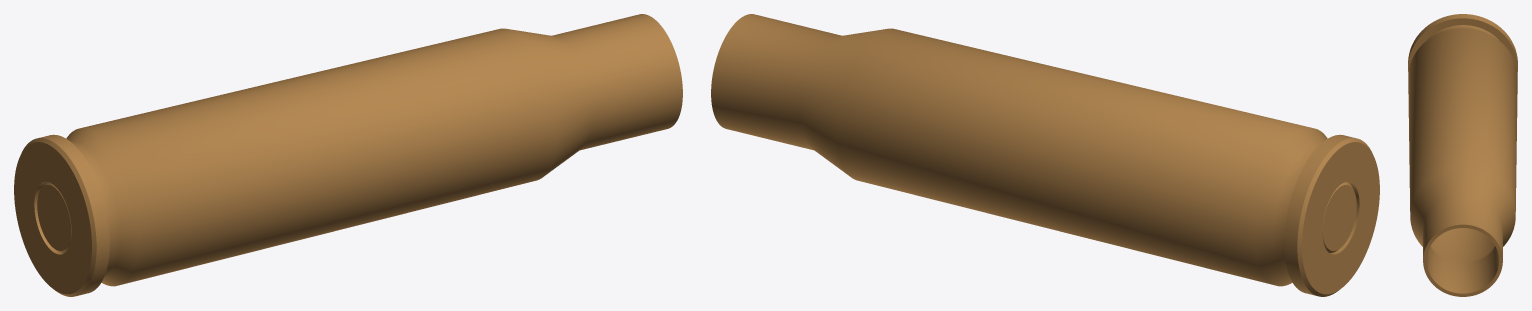
The model's file is case_308_h_winchester.glb.
3 renders of one model, left to right at view 1: azimuth 30°, elevation 25°; view 2: azimuth 150°, elevation 25°; view 3: azimuth 270°, elevation 25°, orthographic. The views are drawn at different scales.
Parts seen in each view (by area): view 1: cartridge:cartridge-model; view 2: cartridge:cartridge-model; view 3: cartridge:cartridge-model.
Part boxes in pixels (left/top/right/bottom): cartridge:cartridge-model: left=14, top=14, right=682, bottom=296; cartridge:cartridge-model: left=711, top=14, right=1379, bottom=296; cartridge:cartridge-model: left=1408, top=14, right=1517, bottom=296.
Size of the model in its own units: 0.0512 by 0.012 by 0.012.
